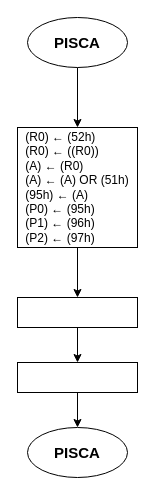
The diagram is 155 pixels wide and 495 high, and some of its shapes have lost their labels. Each missing label, with the centre of its shape:
(95h) ← (R0): the point at 77,377
Espera 0,5s: the point at 77,312
